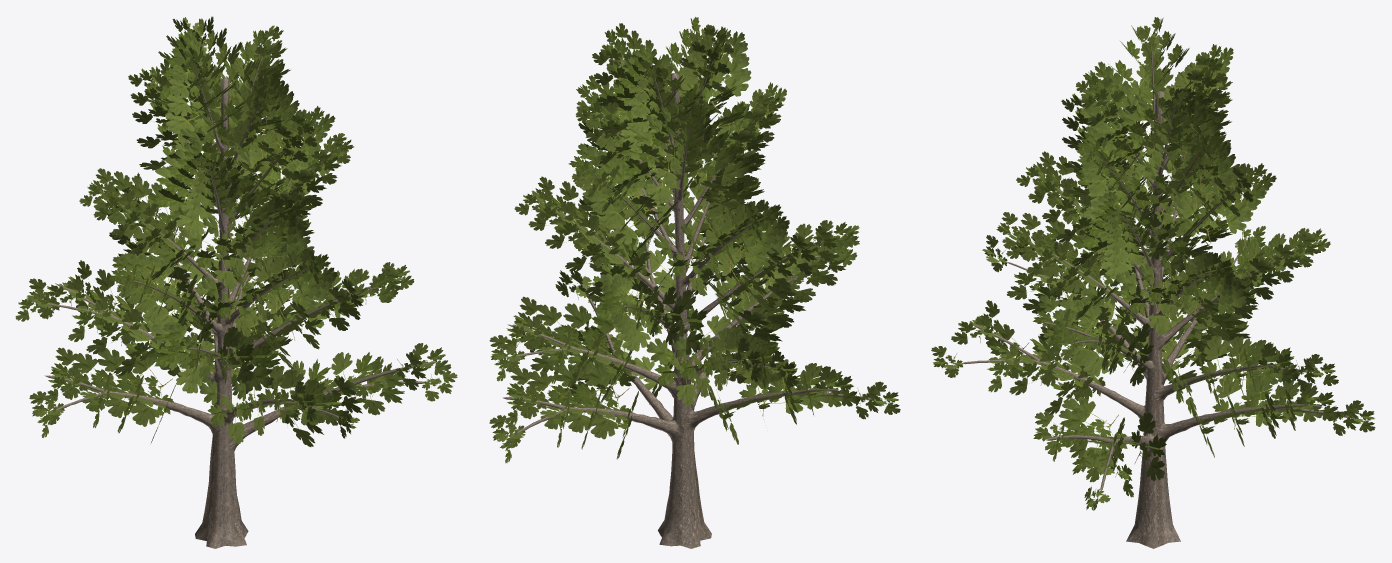
Rendered from Tree1.obj.
The picture shows the model from 3 angles, left to right: view 1: azimuth 30°, elevation 25°; view 2: azimuth 150°, elevation 25°; view 3: azimuth 270°, elevation 25°; orthographic projection. The views are drawn at different scales.
Visible parts, largest first — view 1: branch05, bark_willow_02_diff_1k; view 2: branch05, bark_willow_02_diff_1k; view 3: branch05, bark_willow_02_diff_1k.
Part boxes in pixels (x1,y1,x2,y2): branch05: (15, 16, 457, 446); bark_willow_02_diff_1k: (44, 56, 436, 548); branch05: (489, 17, 900, 463); bark_willow_02_diff_1k: (502, 51, 871, 548); branch05: (931, 17, 1375, 510); bark_willow_02_diff_1k: (960, 46, 1348, 548).
Bounding box in the file's own units: 162 × 198 × 159.
